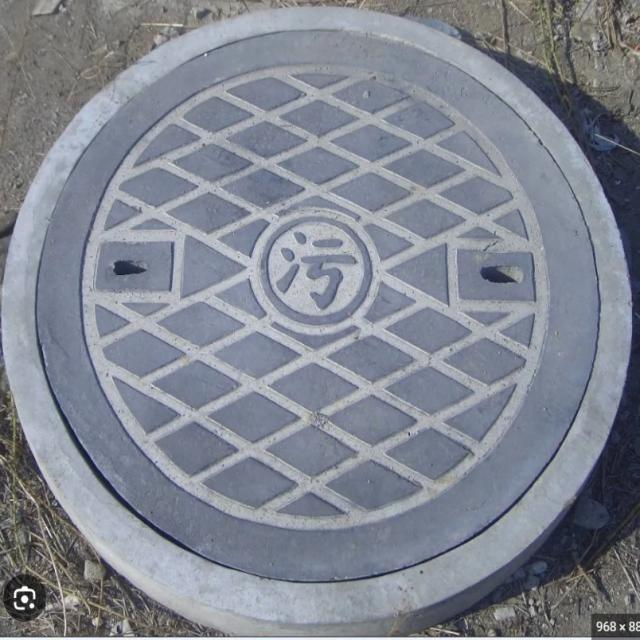manhole: (2, 8, 631, 633)
